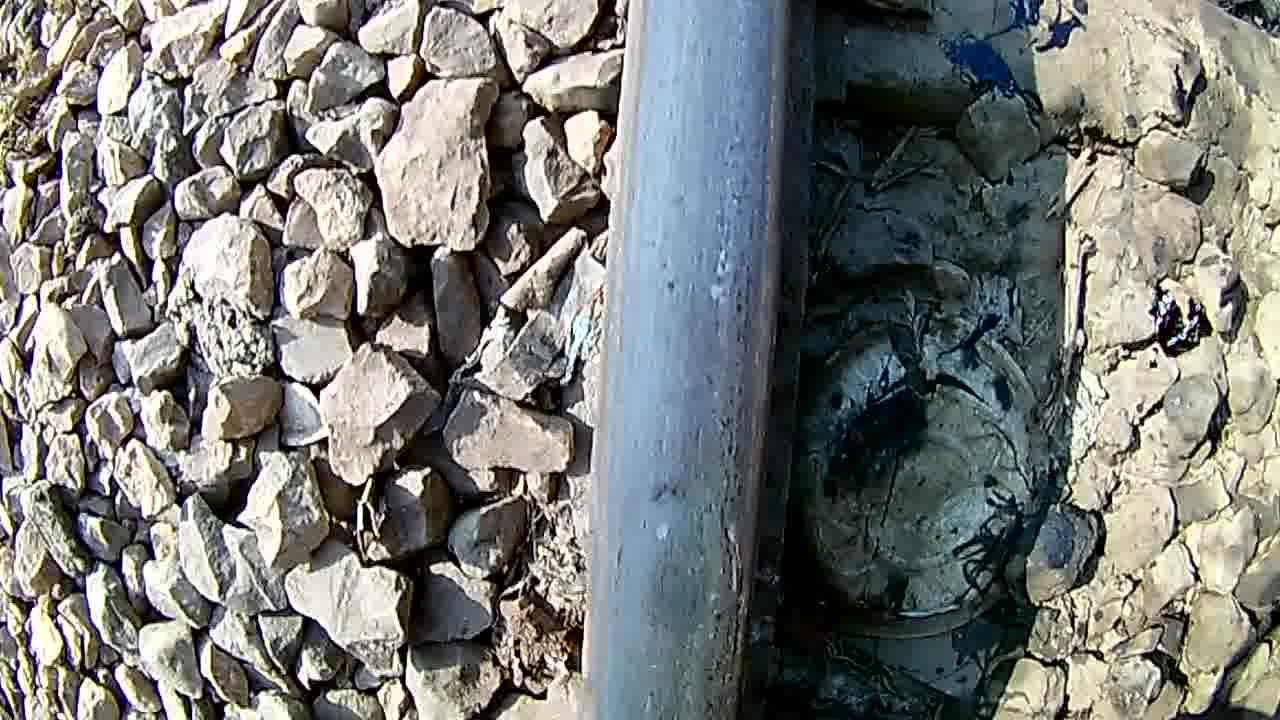bolt_missing: (594, 433, 744, 720)
